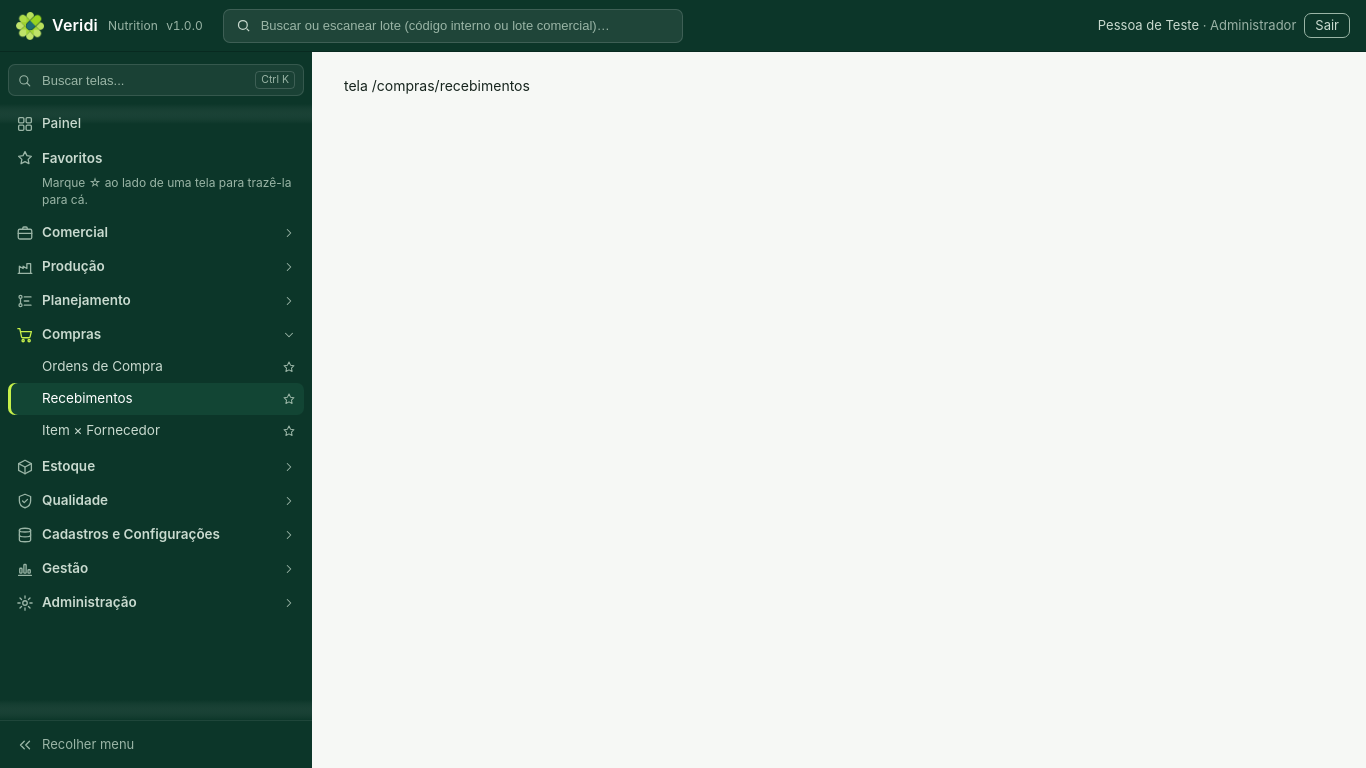
Scenario: Navegação do ERP — grupos › a seção da tela atual abre sozinha, marca a tela e não vira preferência gravada
Note: Fechar a seção aberta sozinha também não grava nada.
Click the button "Compras". click: (72, 334)
box: 8,319 -> 304,351
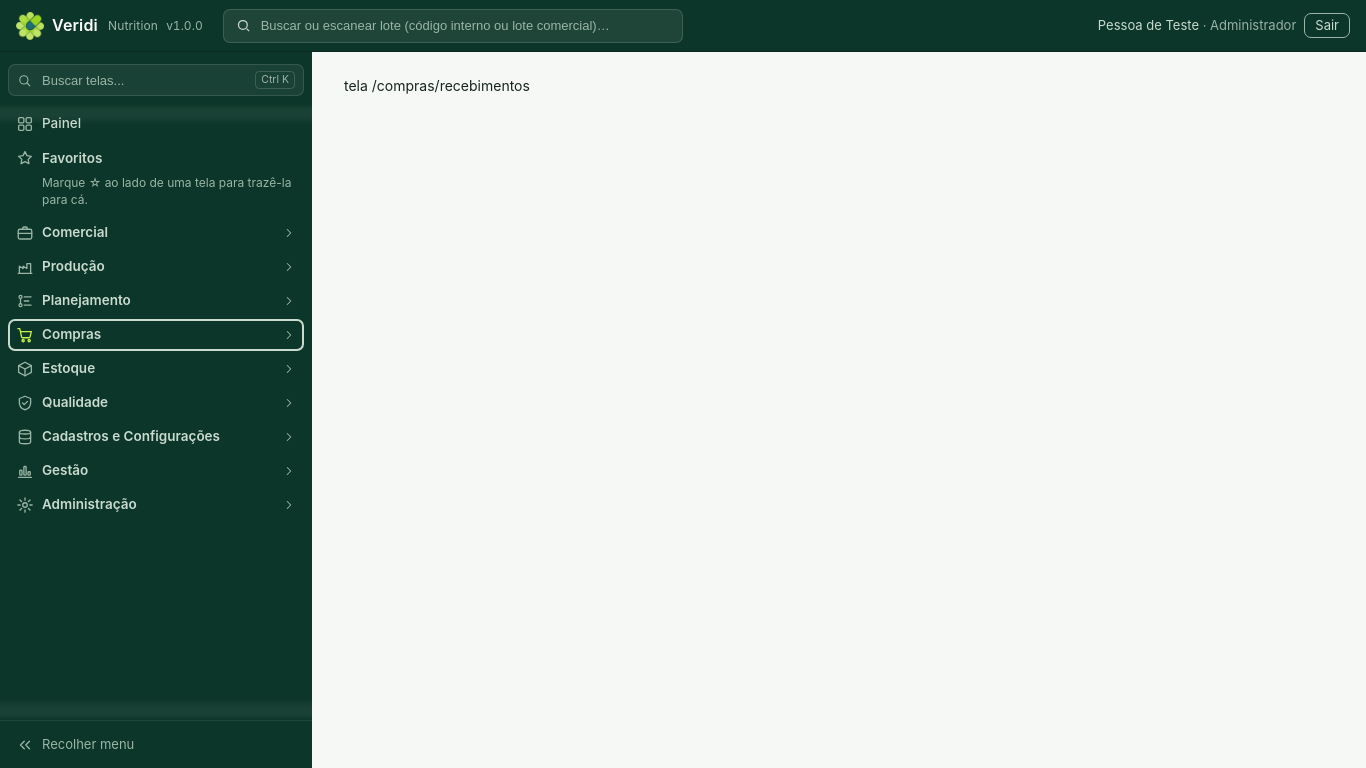
Result: the button "Compras" is collapsed at 8,319 -> 304,351
